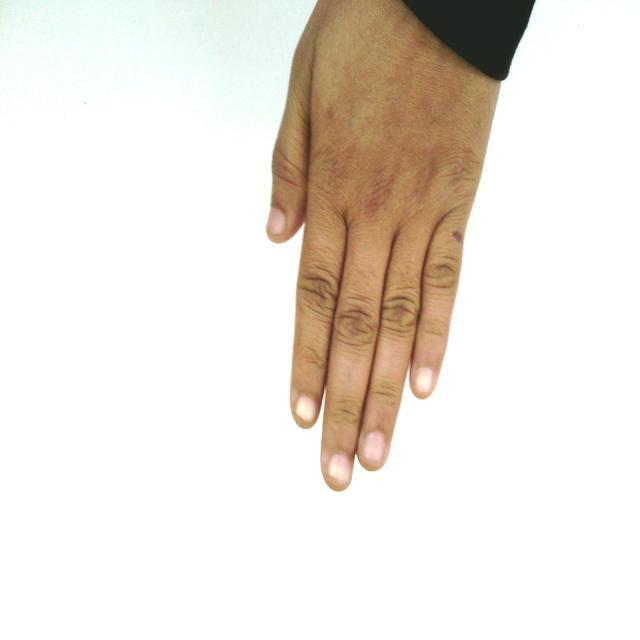Fingernail: (328, 453, 351, 485), (363, 431, 384, 462), (296, 396, 316, 422), (267, 208, 285, 235), (415, 368, 433, 393)
